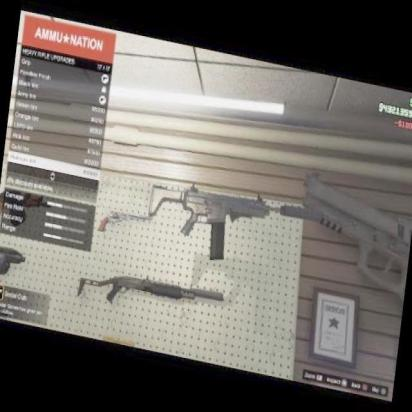Gun: (141, 172, 278, 272)
